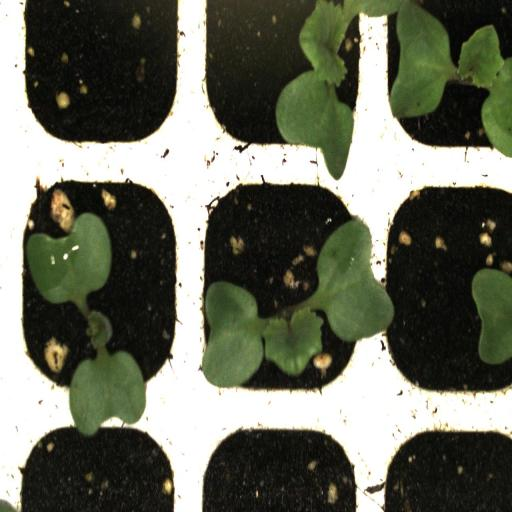Folha: (471, 268, 512, 365)
Germinacao: (190, 163, 374, 415), (8, 163, 189, 415), (189, 0, 373, 162), (373, 0, 512, 162)
